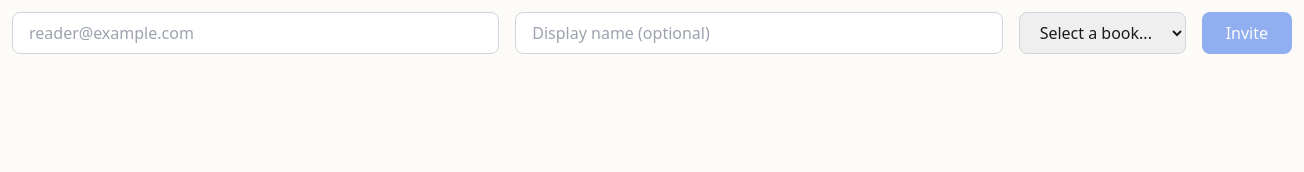
InviteReaderForm › enables button when email and book are filled
The image size is (1304, 172).
Type "test@example.com" into the field with placeholder "reader@example.com".
click(256, 33); type("test@example.com")  # box top-left (12, 12), bottom-right (499, 54)
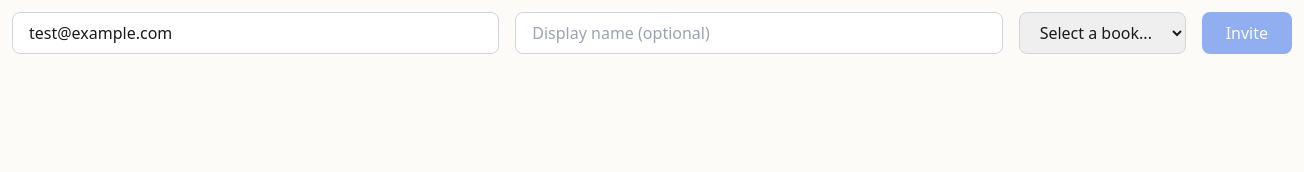
Select "Test Book 1" in the dropdown at (1102, 33), box top-left (1019, 12), bottom-right (1186, 54)
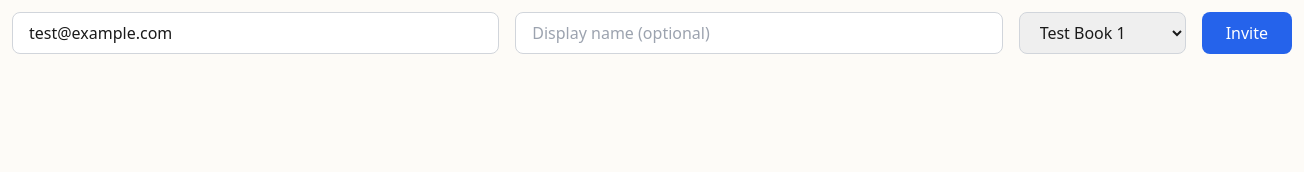
Expected: the button "Invite" is enabled, top-left (1202, 12), bottom-right (1292, 54)
